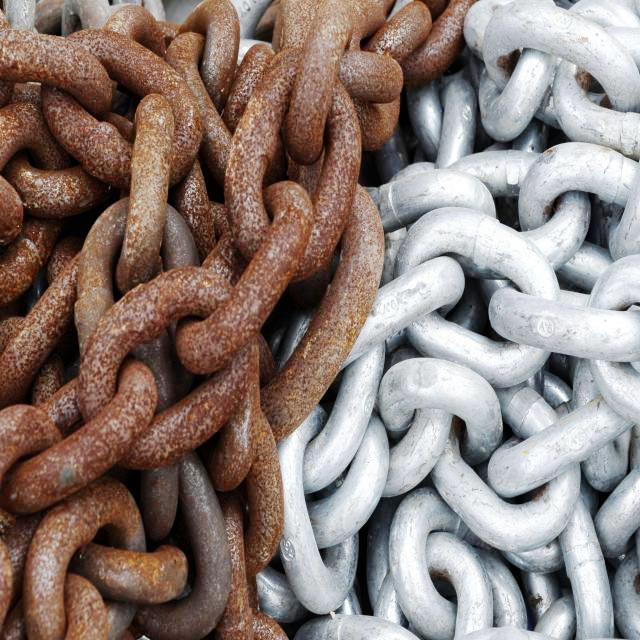Corrosion: (0, 0, 472, 640)
